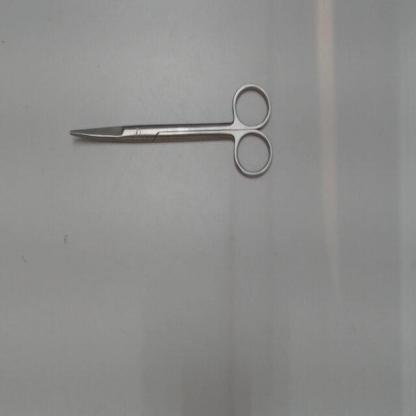Curved Mayo Scissors: (66, 80, 277, 184)
